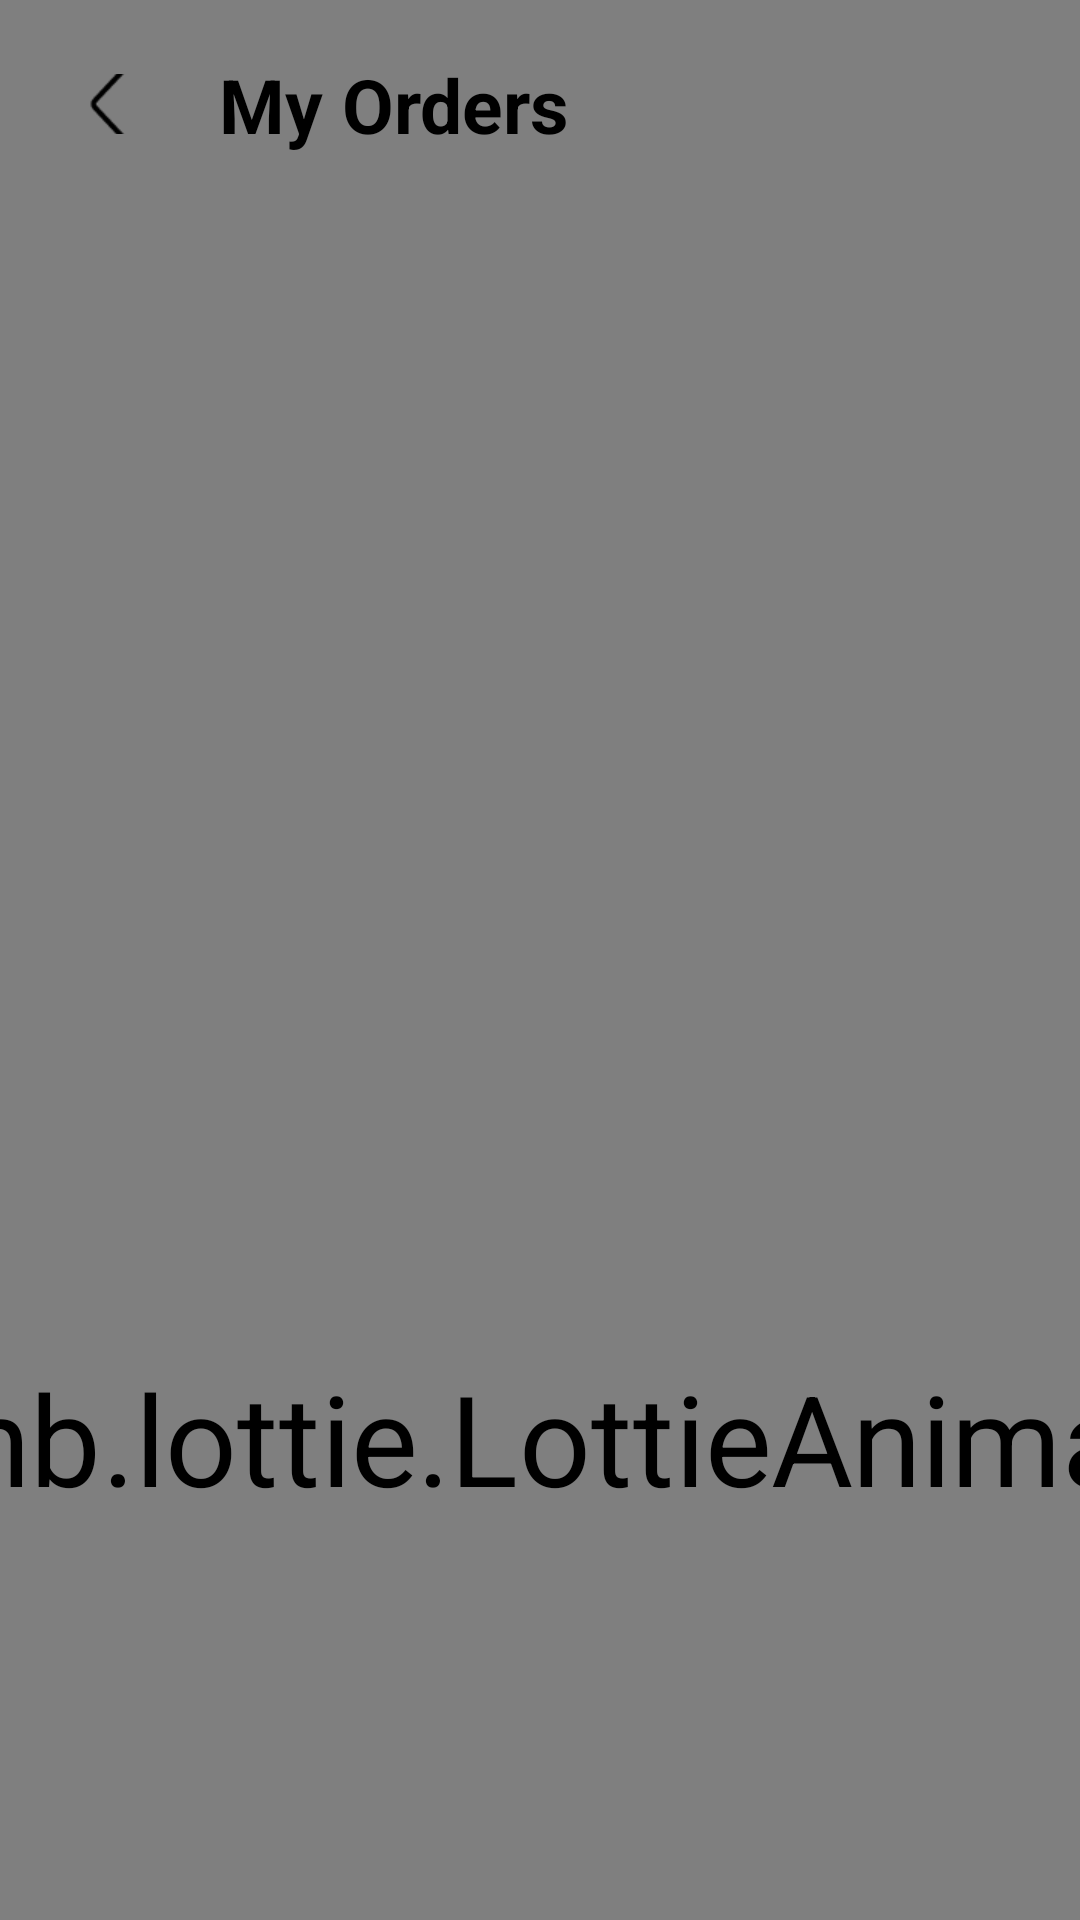

Icon bounding boxes for this 1080px x 1920px phone screenshot, format (x1, y1, x2, y2):
left: (90, 74, 124, 134)
